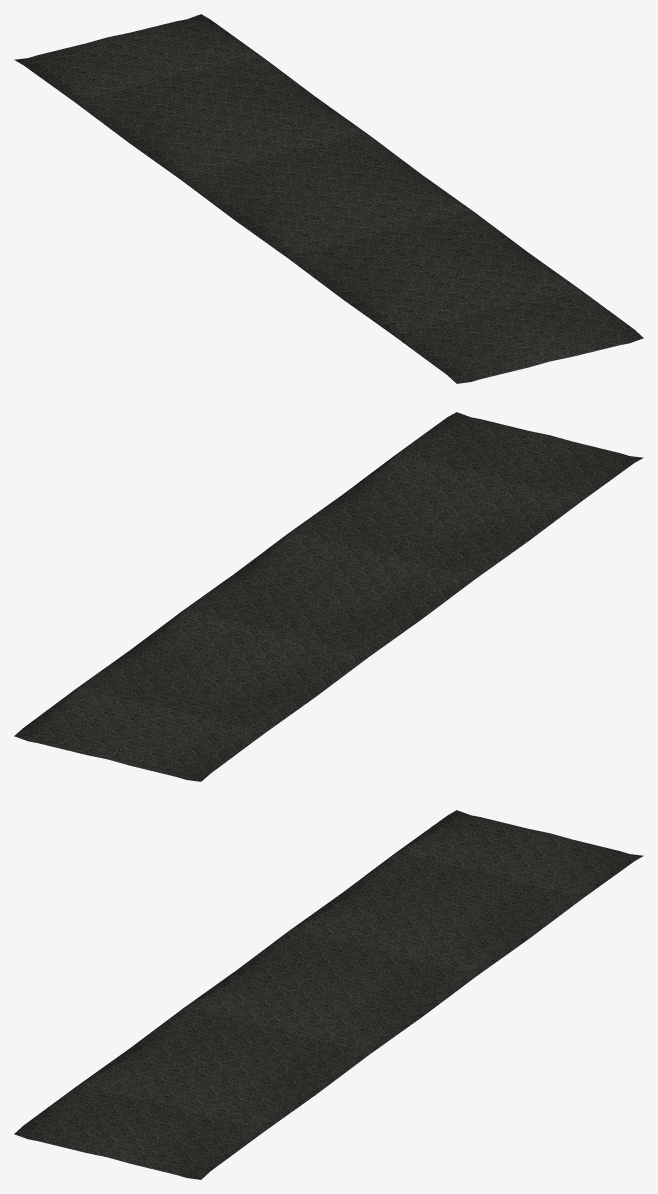
Rendered from KH_0RAIL_JARI.glb.
The picture shows the model from 3 angles, top to bottom: view 1: azimuth 30°, elevation 25°; view 2: azimuth 150°, elevation 25°; view 3: azimuth 330°, elevation 25°; orthographic projection.
Parts seen in each view (by area): view 1: Jari_All; view 2: Jari_All; view 3: Jari_All.
Part boxes in pixels (x1,y1,x2,y2): Jari_All: (14,14,643,383); Jari_All: (14,412,643,781); Jari_All: (14,810,643,1179).
Bounding box in the file's own units: 25.52 × 0.987 × 105.
Materials: 1 (1 with a texture image).
